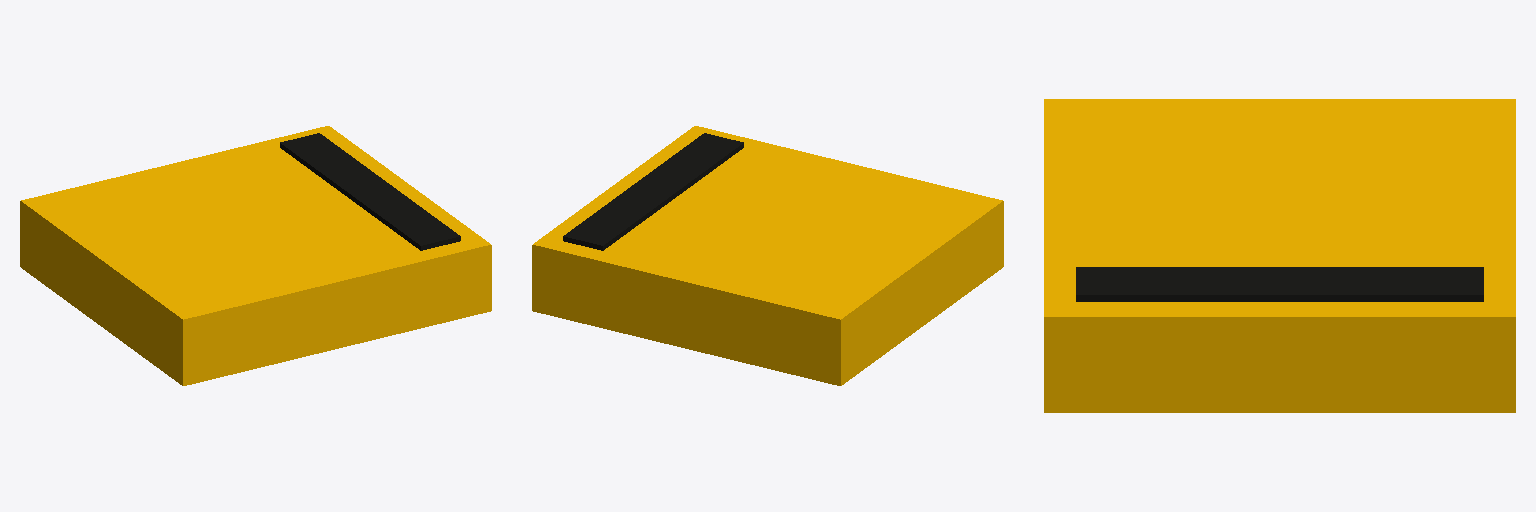
robot.urdf — cart:
<?xml version='1.0' encoding='utf-8'?>
<robot name="cart"><link name="base_link"><visual name="Chassis"><origin xyz="0 0 .115" rpy="0 0 0" /><geometry><box size="0.58 0.53 0.12" /></geometry><material name="Chassis"><color rgba="1.0 0.76 0.02 1" /></material></visual><visual name="Front stripe"><origin xyz="0.215 0 0.180" rpy="0 0 0" /><geometry><box size="0.075 0.46 0.009" /></geometry><material name="Front stripe"><color rgba="0.13 0.13 0.12 1" /></material></visual></link></robot>

--- Render facts (derived) ---
Views: 3 orthographic renders of the robot side by side, from view 1: azimuth 30°, elevation 25°; view 2: azimuth 150°, elevation 25°; view 3: azimuth 270°, elevation 25°.
Robot: cart — 1 links, 0 joints (none); root link base_link; default pose: every joint at zero.
Links seen in each view (by area): view 1: base_link; view 2: base_link; view 3: base_link.
Boxes of the visible links, <box> form: base_link: <box>20,126,491,385</box>; base_link: <box>532,126,1003,385</box>; base_link: <box>1044,99,1515,412</box>.
Bounding box of the posed robot: 0.58 × 0.53 × 0.1295 m (x, y, z).
Geometry: primitives only (box / cylinder / sphere), no mesh files.
